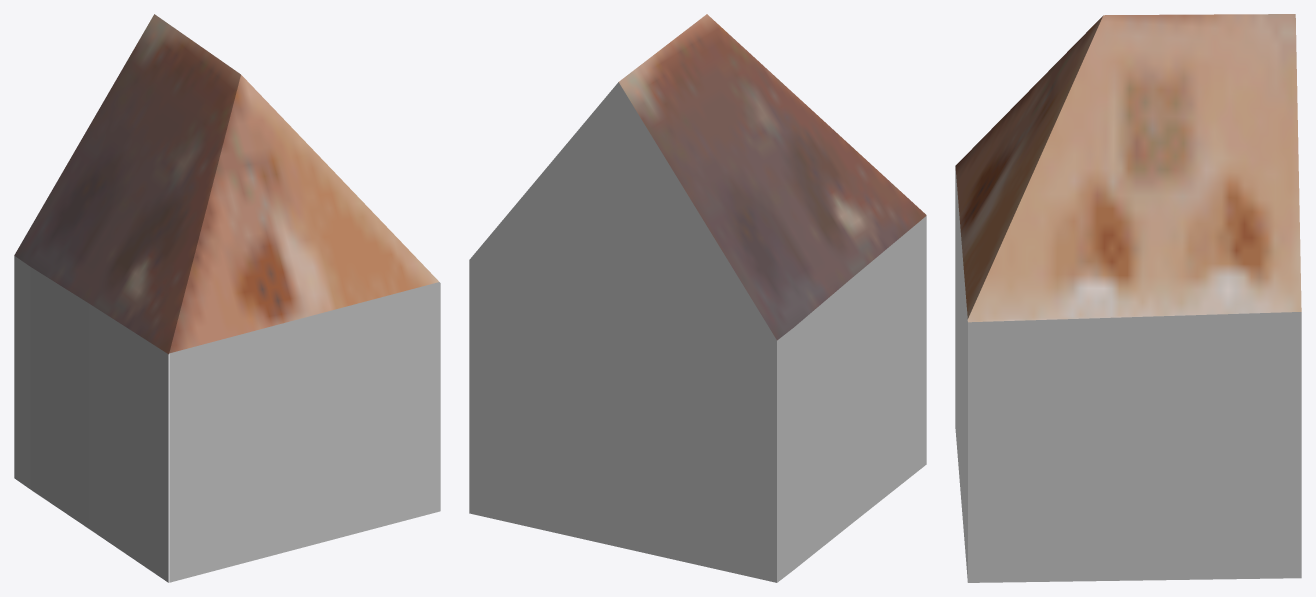
The model's file is DEBW_0010007Txci.gltf.
3 views of the same model, side by side, from view 1: azimuth 30°, elevation 25°; view 2: azimuth 150°, elevation 25°; view 3: azimuth 270°, elevation 25° (orthographic). The views are drawn at different scales.
Parts seen in each view (by area): view 1: Z_UP; view 2: Z_UP; view 3: Z_UP.
Part boxes in pixels (box(x1,y1,x2,y2)): Z_UP: box(14, 14, 440, 582); Z_UP: box(469, 14, 926, 582); Z_UP: box(955, 14, 1301, 582).
Bounding box in the file's own units: 9.73 × 13.9 × 8.91.
2 materials, 1 textured.
